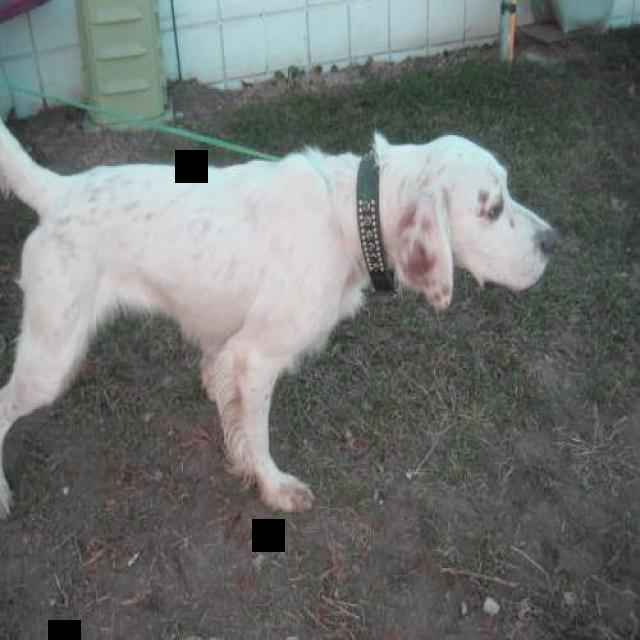adult_dog: (0, 117, 561, 520)
